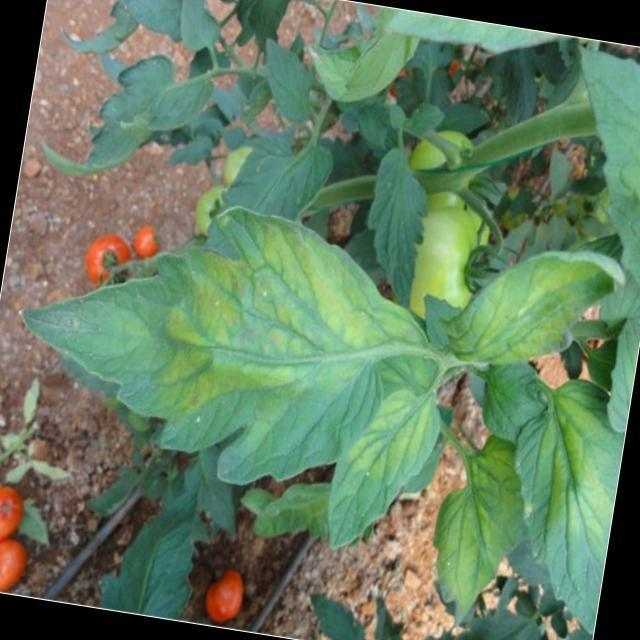Yellow Curl Virus: (105, 202, 422, 488), (438, 232, 628, 381), (317, 382, 441, 574), (520, 386, 631, 582), (431, 442, 521, 624)
